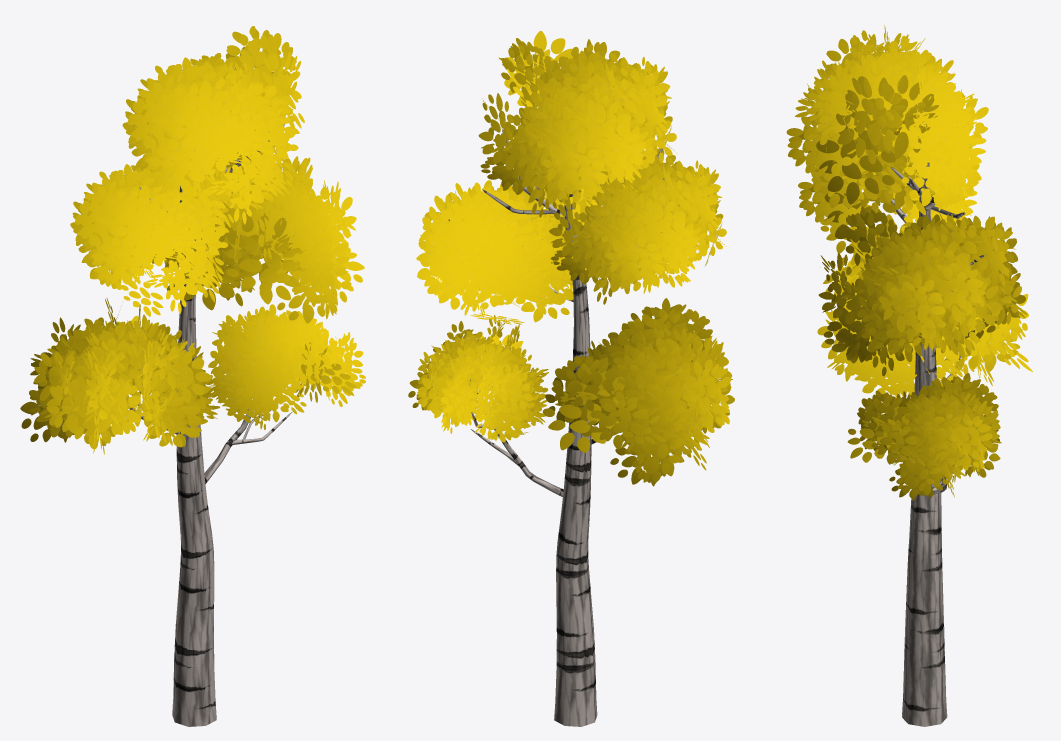
The model's file is birch_1.glb.
3 renders of one model, left to right at view 1: azimuth 30°, elevation 25°; view 2: azimuth 150°, elevation 25°; view 3: azimuth 270°, elevation 25°, orthographic. The views are drawn at different scales.
Parts seen in each view (by area): view 1: BirchTree_1; view 2: BirchTree_1; view 3: BirchTree_1.
Boxes of the visible parts, x1,y1,x2,y2 form: BirchTree_1: (20,26,365,726); BirchTree_1: (408,31,734,726); BirchTree_1: (786,25,1032,726).
Bounding box in the file's own units: 2.71 × 5.45 × 1.94.
2 materials, 2 textured.
